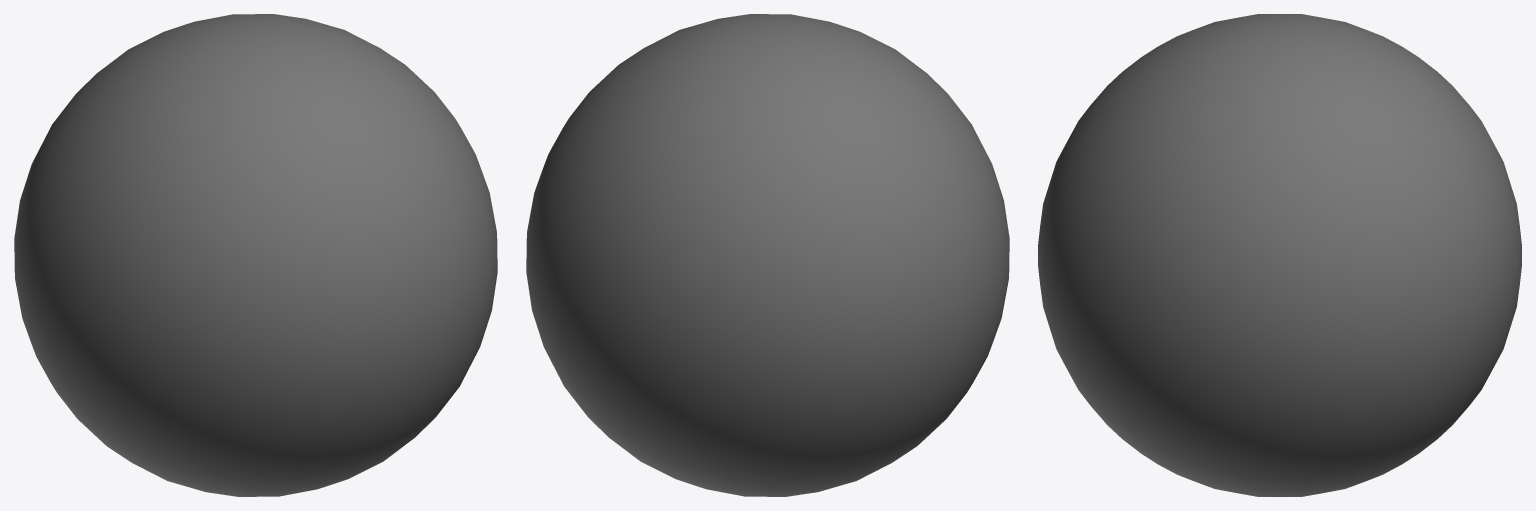
File: hei01.FBX
3 views of the same model, side by side, from view 1: azimuth 30°, elevation 25°; view 2: azimuth 150°, elevation 25°; view 3: azimuth 270°, elevation 25° (orthographic).
Visible parts, largest first — view 1: GeoSphere014; view 2: GeoSphere014; view 3: GeoSphere014.
Part boxes in pixels (x1=…): GeoSphere014: x1=14, y1=14, x2=497, y2=496; GeoSphere014: x1=526, y1=14, x2=1009, y2=496; GeoSphere014: x1=1038, y1=14, x2=1521, y2=496.
Bounding box in the file's own units: 23.94 × 24 × 23.92.
